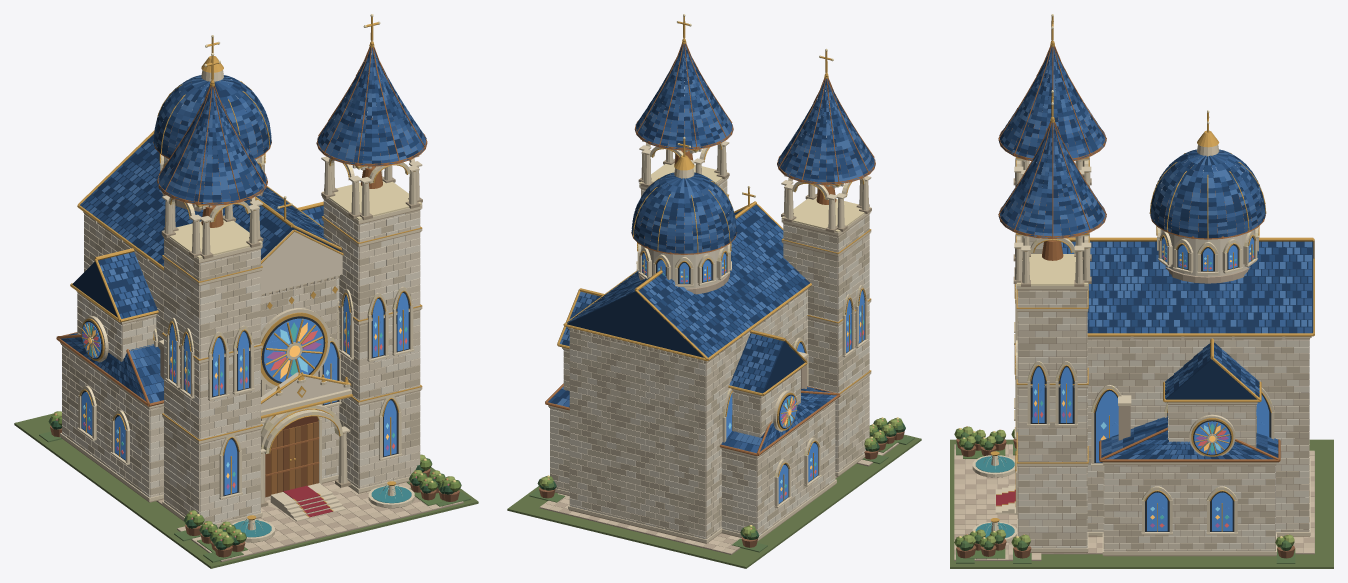
File: chapel-nivel-10.glb
The picture shows the model from 3 angles, left to right: view 1: azimuth 30°, elevation 25°; view 2: azimuth 150°, elevation 25°; view 3: azimuth 270°, elevation 25°; orthographic projection. The views are drawn at different scales.
Parts seen in each view (by area): view 1: Capela 10 #e6d7ba, Capela 10 #e8dcc5, Capela 10 #eae1ce, Capela 10 #cec1a8, Capela 10 #ded1b9, Capela 10 #1b385b, Capela 10 #d5a452, Capela 10 #4670a0, Capela 10 #406c9f, Capela 10 #2e5481, Capela 10 #355f90, Capela 10 #234771 (+18 smaller); view 2: Capela 10 #1b385b, Capela 10 #e8dcc5, Capela 10 #ded1b9, Capela 10 #eae1ce, Capela 10 #cec1a8, Capela 10 #e6d7ba, Capela 10 #355f90, Capela 10 #4670a0, Capela 10 #234771, Capela 10 #2e5481, Capela 10 #6c7d4e, Capela 10 #d5a452 (+11 smaller); view 3: Capela 10 #1b385b, Capela 10 #e8dcc5, Capela 10 #eae1ce, Capela 10 #ded1b9, Capela 10 #e6d7ba, Capela 10 #cec1a8, Capela 10 #4670a0, Capela 10 #355f90, Capela 10 #234771, Capela 10 #2e5481, Capela 10 #6c7d4e, Capela 10 #b3a390 (+16 smaller).
Part boxes in pixels (<box>): Capela 10 #e6d7ba: <box>60,70,422,542</box>; Capela 10 #e8dcc5: <box>62,157,420,525</box>; Capela 10 #eae1ce: <box>62,201,420,524</box>; Capela 10 #cec1a8: <box>62,203,420,523</box>; Capela 10 #ded1b9: <box>62,155,420,522</box>; Capela 10 #1b385b: <box>61,51,422,402</box>; Capela 10 #d5a452: <box>70,17,422,520</box>; Capela 10 #4670a0: <box>74,50,426,402</box>; Capela 10 #406c9f: <box>81,293,408,495</box>; Capela 10 #2e5481: <box>69,48,425,403</box>; Capela 10 #355f90: <box>60,48,424,394</box>; Capela 10 #234771: <box>61,47,426,393</box>; Capela 10 #1b385b: <box>551,48,871,450</box>; Capela 10 #e8dcc5: <box>550,223,869,536</box>; Capela 10 #ded1b9: <box>558,140,869,539</box>; Capela 10 #eae1ce: <box>550,179,869,539</box>; Capela 10 #cec1a8: <box>550,185,869,536</box>; Capela 10 #e6d7ba: <box>548,141,871,542</box>; Capela 10 #355f90: <box>563,47,874,452</box>; Capela 10 #4670a0: <box>557,44,871,445</box>; Capela 10 #234771: <box>548,44,873,451</box>; Capela 10 #2e5481: <box>566,44,875,448</box>; Capela 10 #6c7d4e: <box>507,434,921,568</box>; Capela 10 #d5a452: <box>557,16,871,500</box>; Capela 10 #1b385b: <box>999,49,1313,459</box>; Capela 10 #e8dcc5: <box>1017,229,1309,551</box>; Capela 10 #eae1ce: <box>1017,242,1309,550</box>; Capela 10 #ded1b9: <box>1015,157,1311,551</box>; Capela 10 #e6d7ba: <box>972,144,1310,555</box>; Capela 10 #cec1a8: <box>1017,236,1309,551</box>; Capela 10 #4670a0: <box>999,47,1311,459</box>; Capela 10 #355f90: <box>999,47,1311,459</box>; Capela 10 #234771: <box>999,48,1306,459</box>; Capela 10 #2e5481: <box>1002,47,1311,459</box>; Capela 10 #6c7d4e: <box>950,439,1333,568</box>; Capela 10 #b3a390: <box>1018,241,1308,551</box>.
Size of the model in its own units: 14.75 by 24.46 by 18.77.
